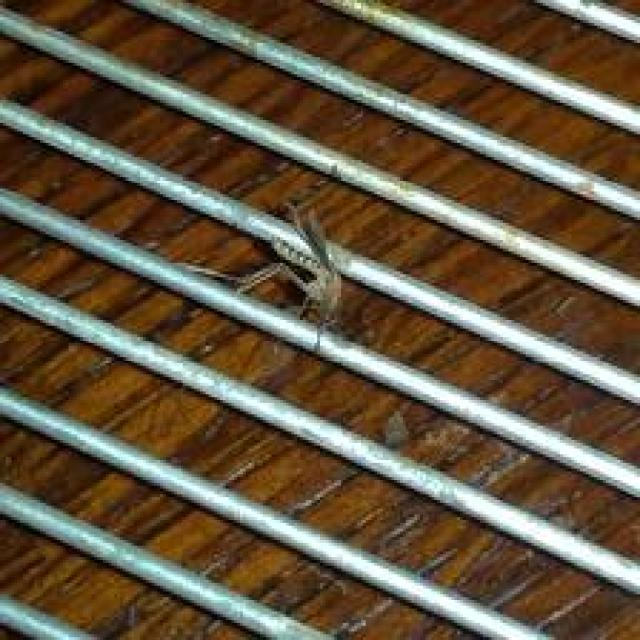Culex: (233, 198, 344, 353)
